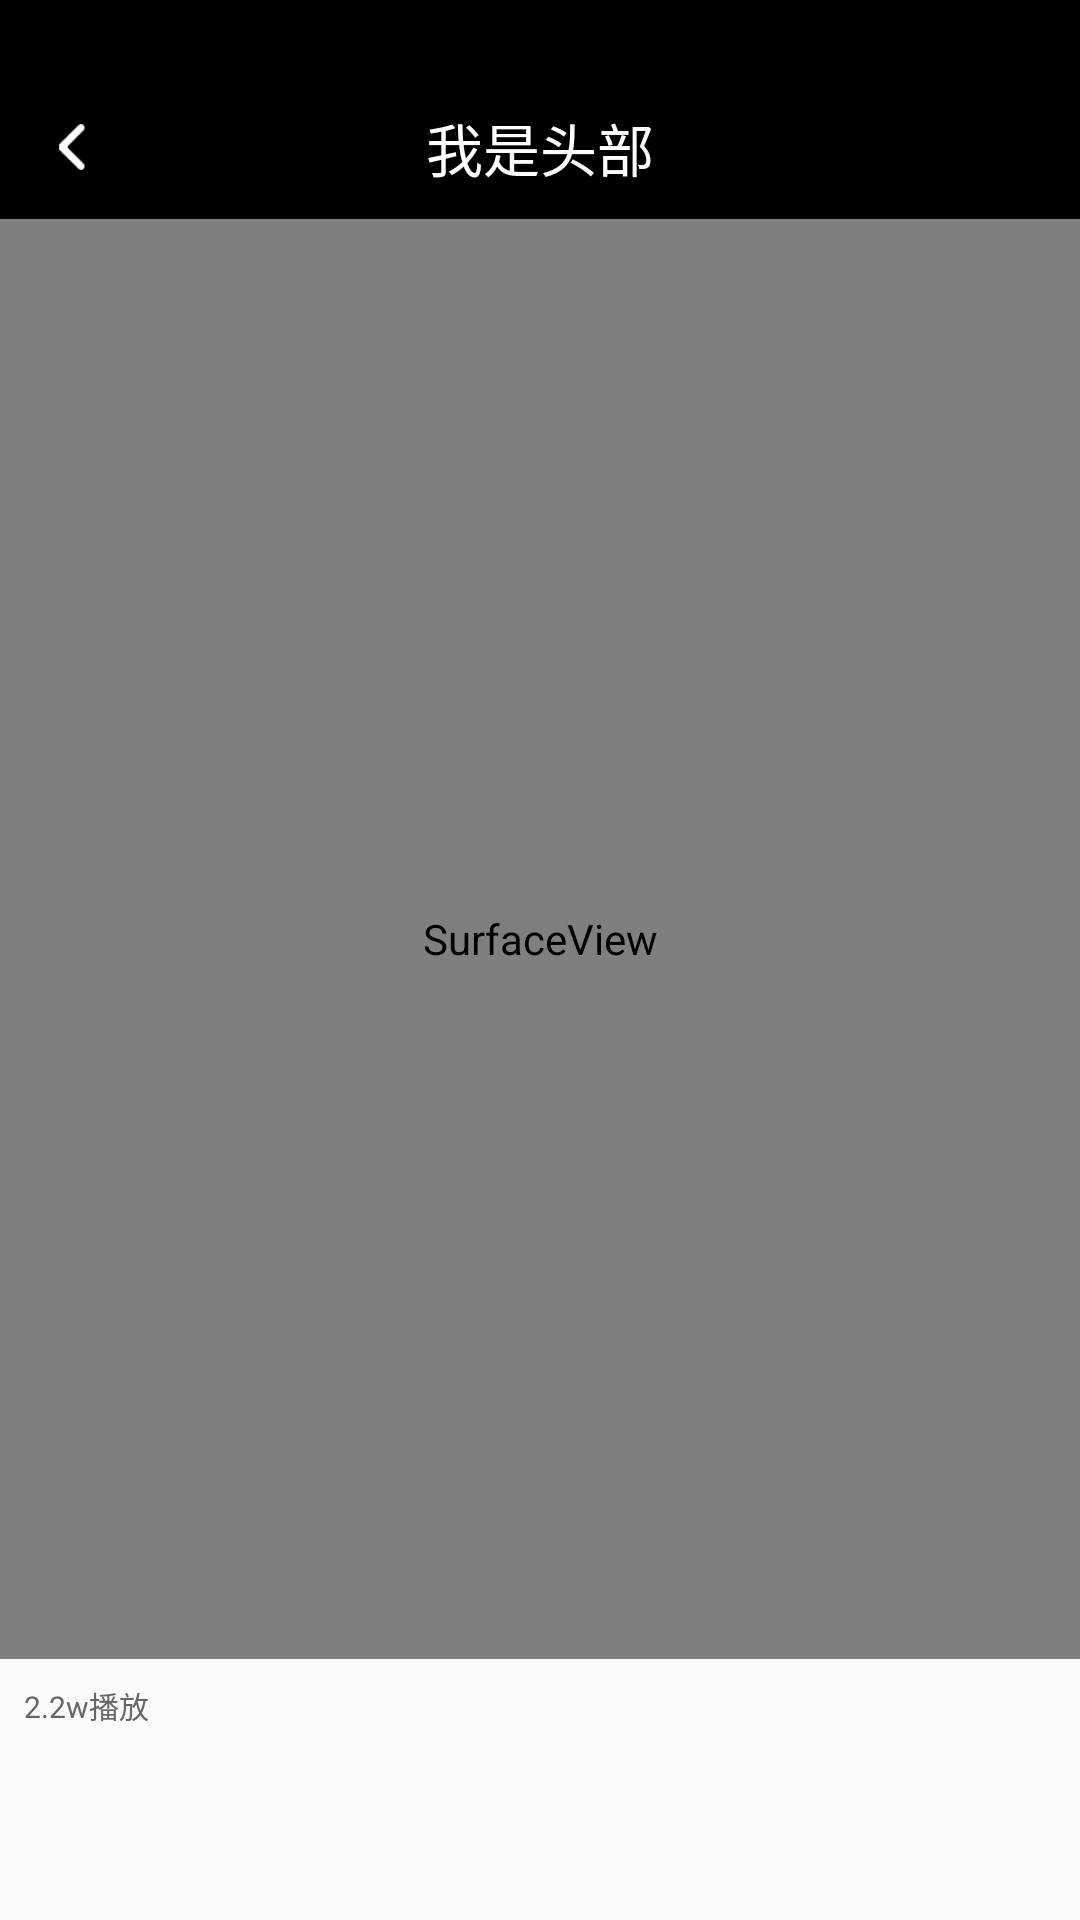

Screen size 1080px×1920px. Icon name, then its center in pixels as (x=x, y=y):
title back: (x=72, y=147)
